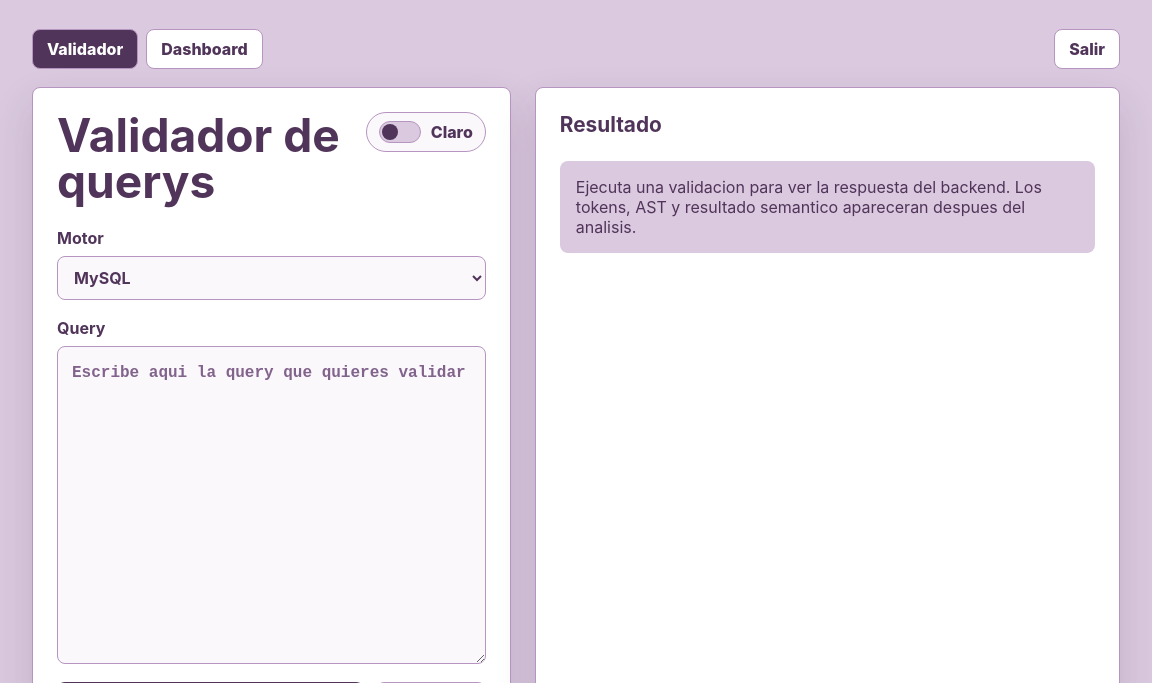
Test: App › muestra y aplica una sugerencia de correccion
Type "SELECT TOP 10 * FROM usuarios;" into the text box labelled "Query" at (271, 505), box [57,346,486,664]
(page scrolled)
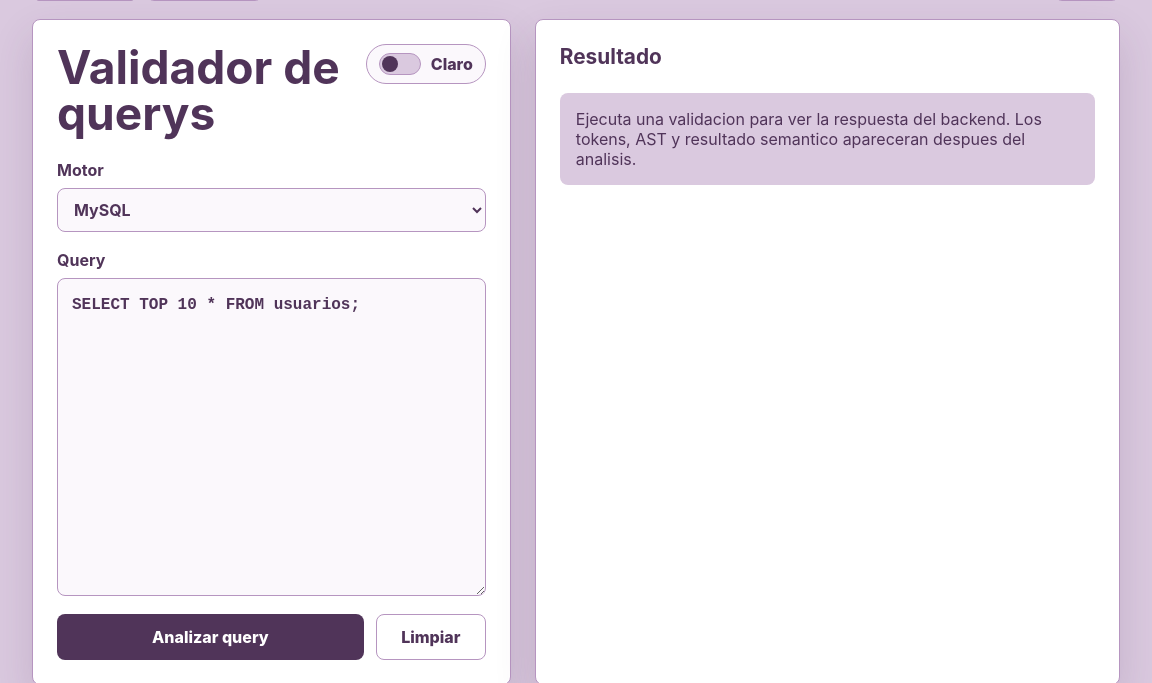
Submit the form, box [57,160,486,660]
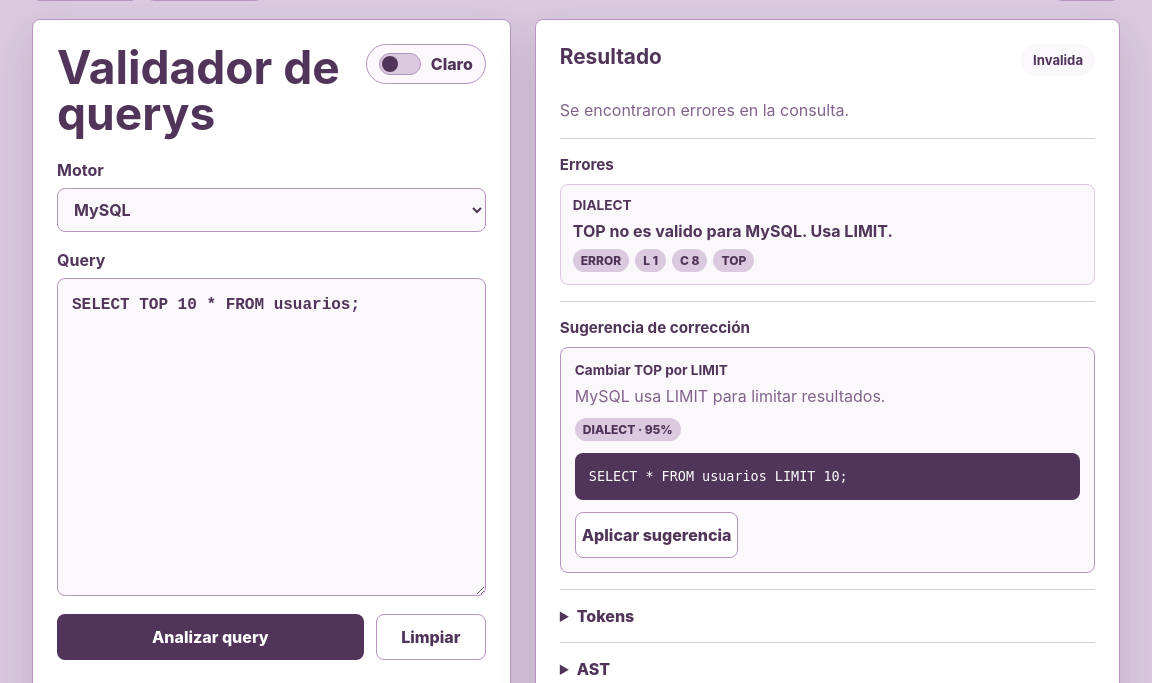
Check: the text "Sugerencia de corrección" is shown, box [560,318,750,337]
Check: the text "Cambiar TOP por LIMIT" is shown, box [575,362,728,378]
Click the button with class "apply-button" at (657, 536), box [575,512,738,558]
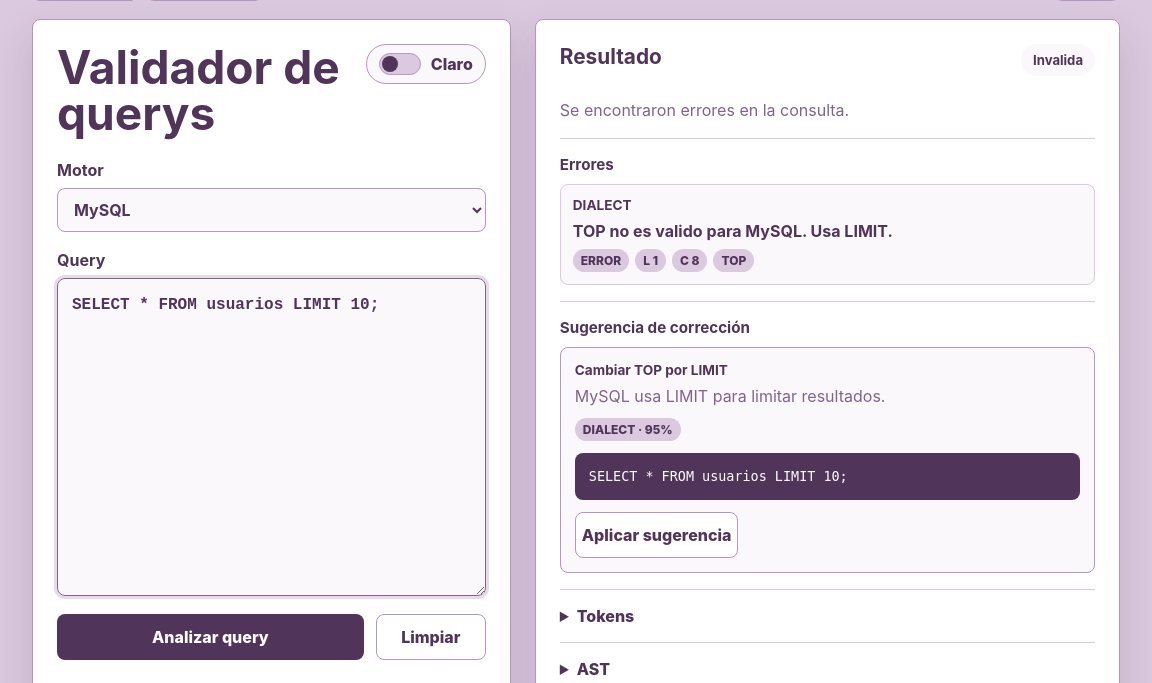
Check: the text box labelled "Query" holds "SELECT * FROM usuarios LIMIT 10;", box [57,278,486,596]
